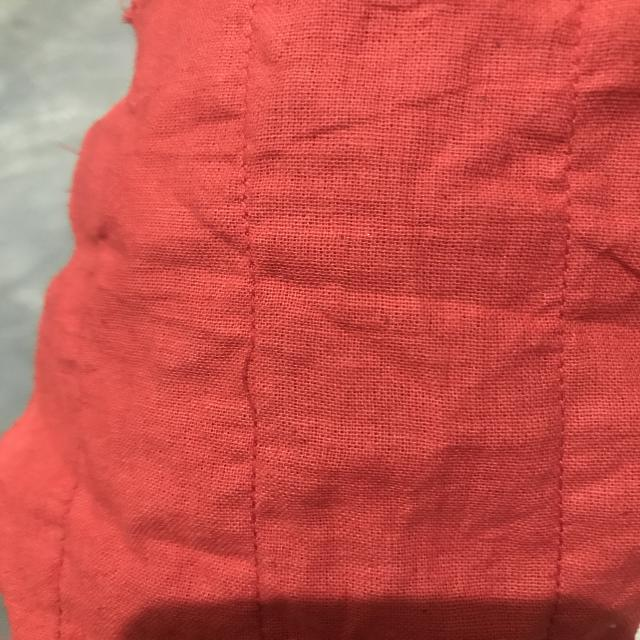good: (544, 361, 588, 495)
skip: (209, 328, 274, 456)
